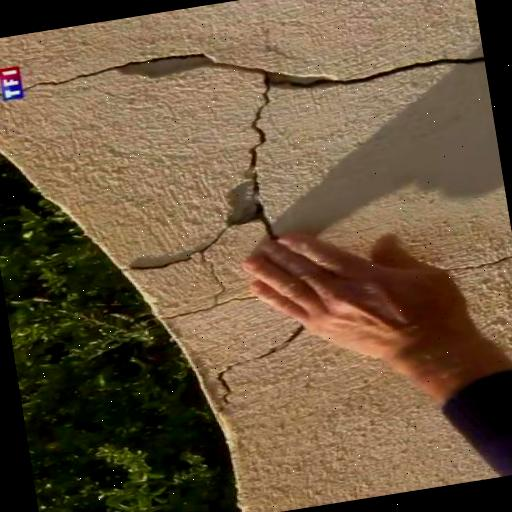spalling: (35, 45, 483, 93), (209, 326, 305, 405), (235, 94, 284, 225), (118, 224, 232, 278)
